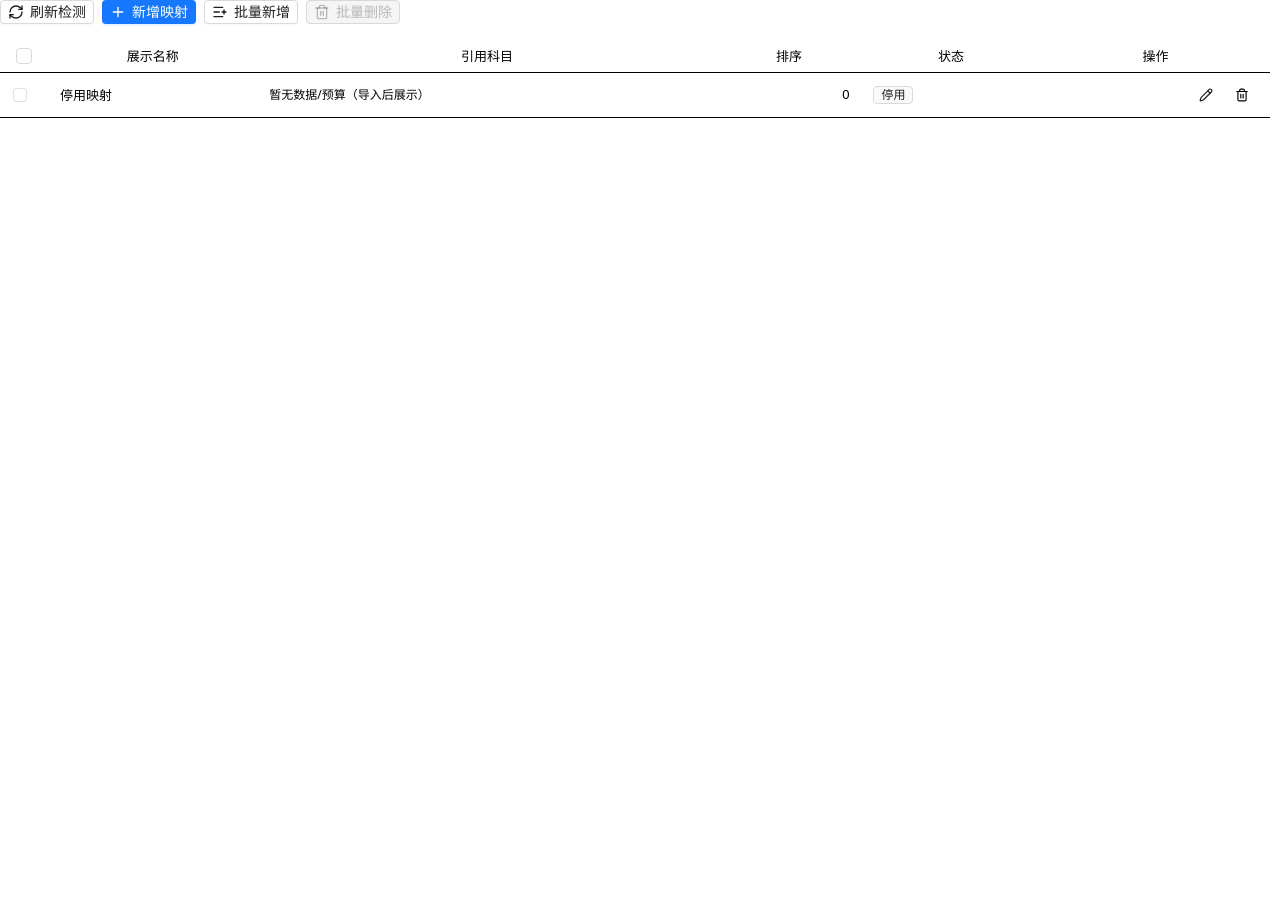
Test: ExpenseMappingPanel 引用科目排除已引用 › 停用映射引用的科目不排除（与未配置口径一致，仅排除启用映射）
Click the button "新增映射" at (149, 12), box [102,0,196,24]
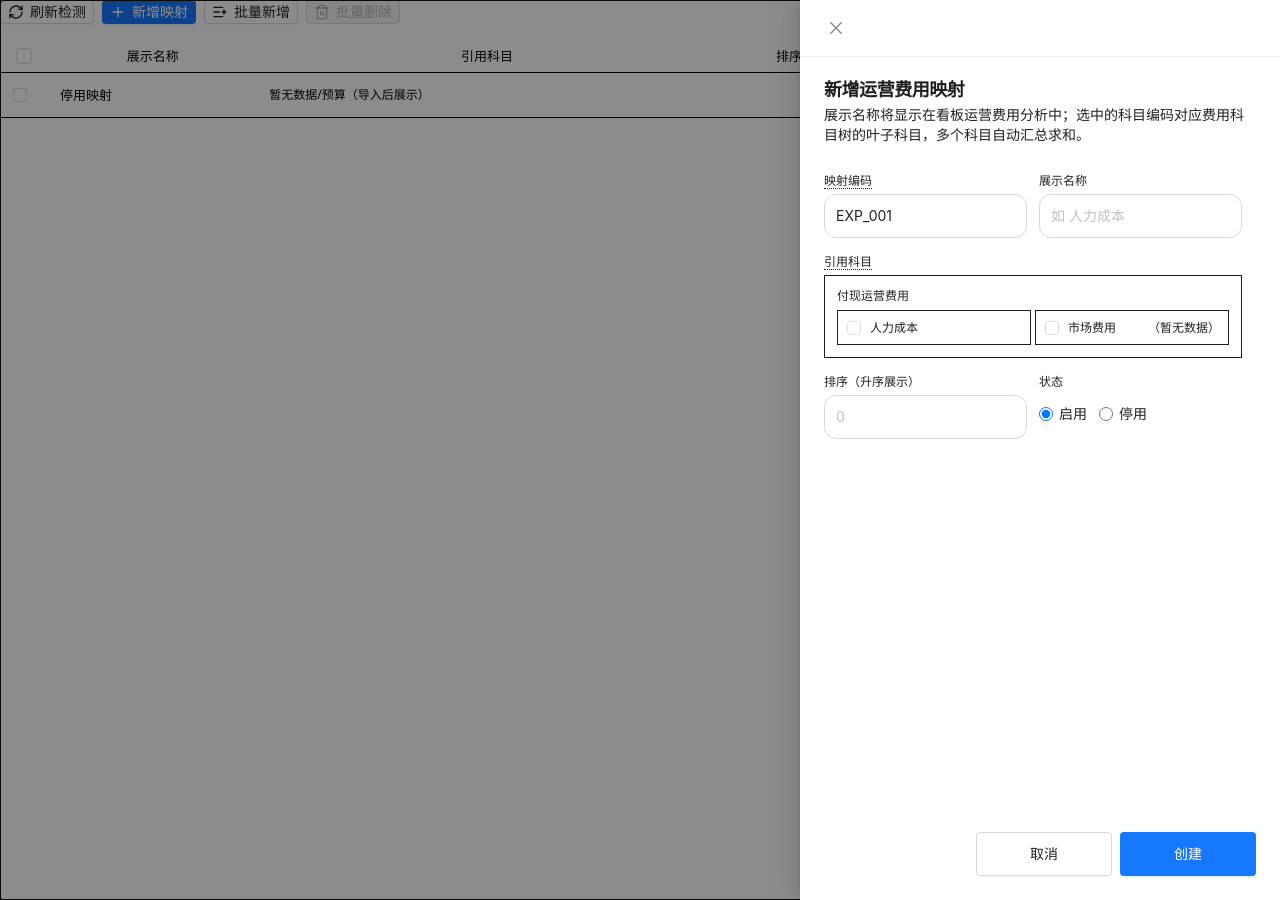
Now the field showing "EXP_001" is shown, box [824,194,1027,238]
Now the 3rd checkbox labelled "人力成本" is shown, box [837,310,1031,345]
